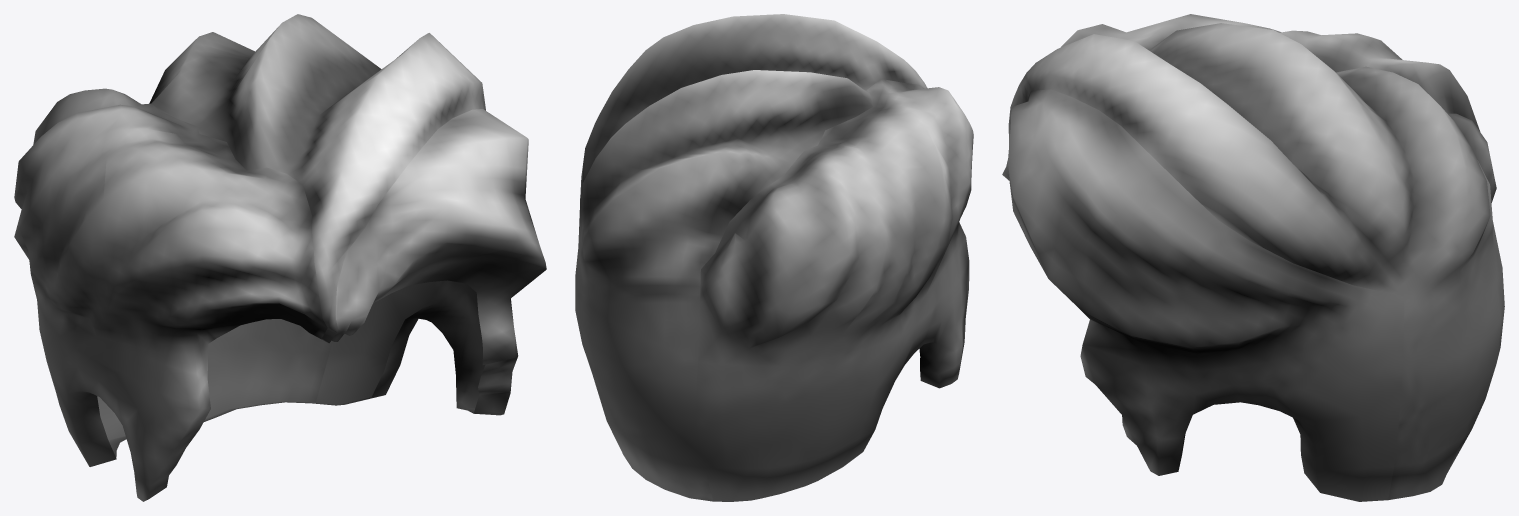
The model's file is parted.glb.
The picture shows the model from 3 angles, left to right: view 1: azimuth 30°, elevation 25°; view 2: azimuth 150°, elevation 25°; view 3: azimuth 270°, elevation 25°; orthographic projection. The views are drawn at different scales.
Parts seen in each view (by area): view 1: Hair_SimpleParted; view 2: Hair_SimpleParted; view 3: Hair_SimpleParted.
Boxes of the visible parts, left/top/right/bottom form: Hair_SimpleParted: left=14, top=14, right=546, bottom=501; Hair_SimpleParted: left=575, top=14, right=973, bottom=501; Hair_SimpleParted: left=1002, top=14, right=1504, bottom=501.
Bounding box in the file's own units: 0.1754 × 0.1825 × 0.1857.
1 material, 1 textured.
